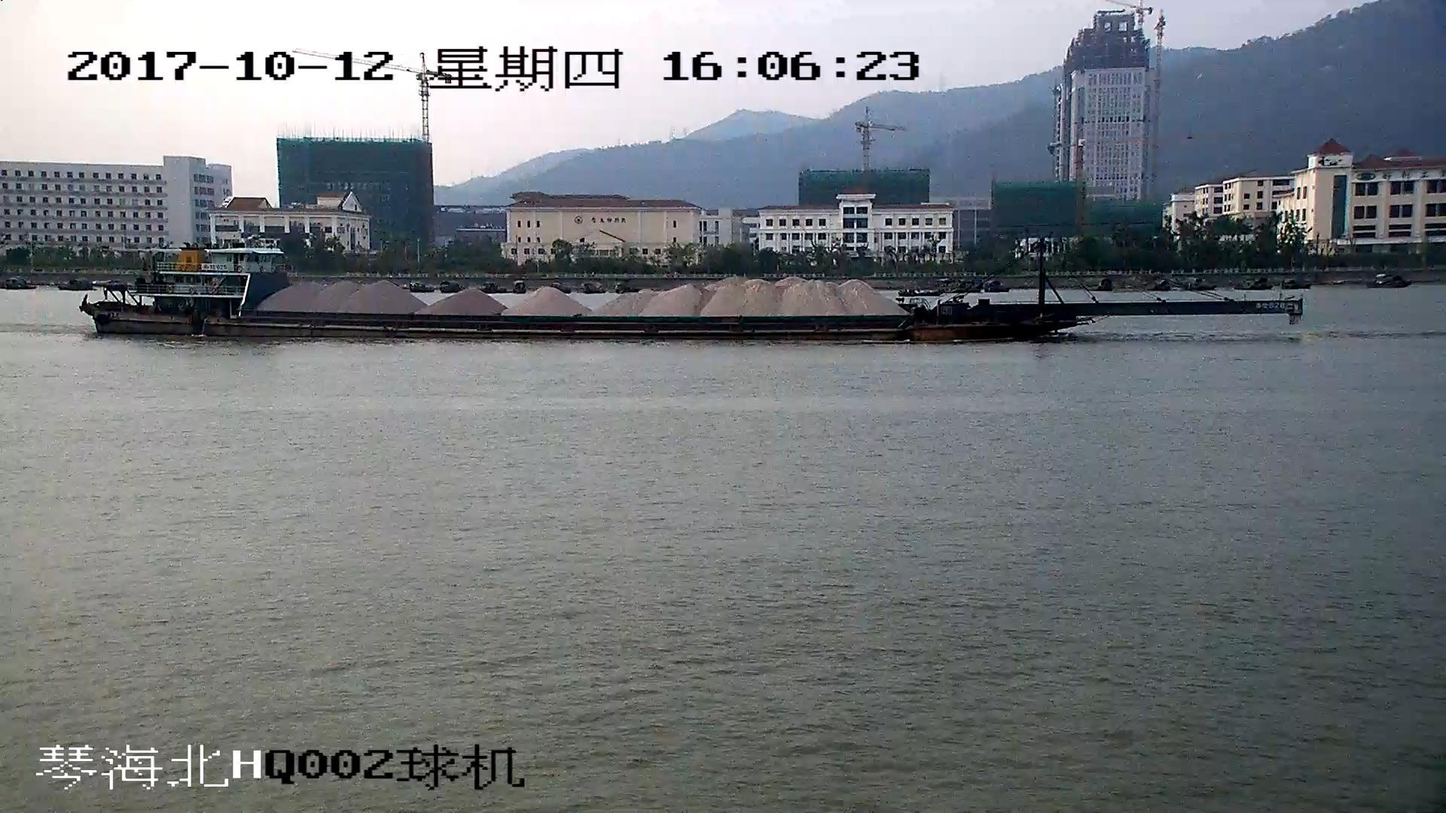ore carrier: (82, 238, 1298, 338)
